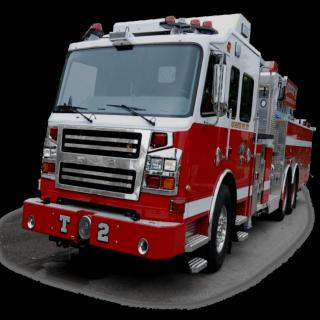Fire_truck: (17, 0, 320, 286)
